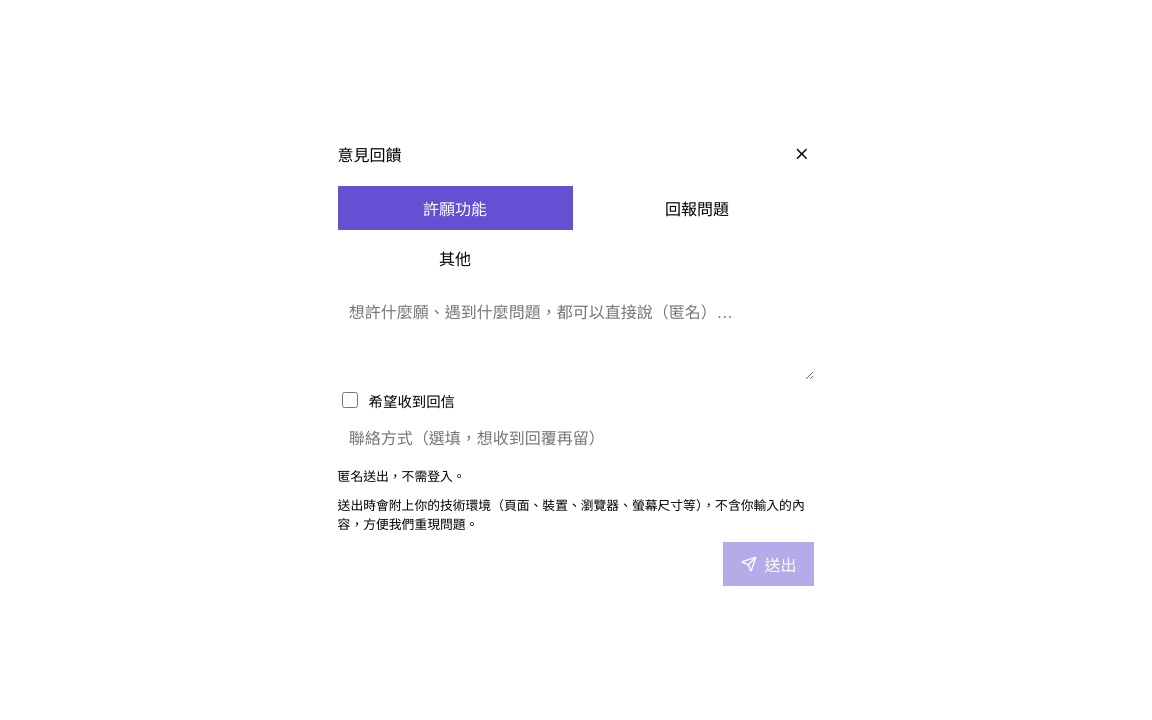
FeedbackForm › submits trimmed input and shows a thank-you
Step 1. Type "  想要夜間模式  " into the text box with placeholder "想許什麼願、遇到什麼問題，都可以直接說（匿名）…" → (576, 335), box [338,290,814,380]
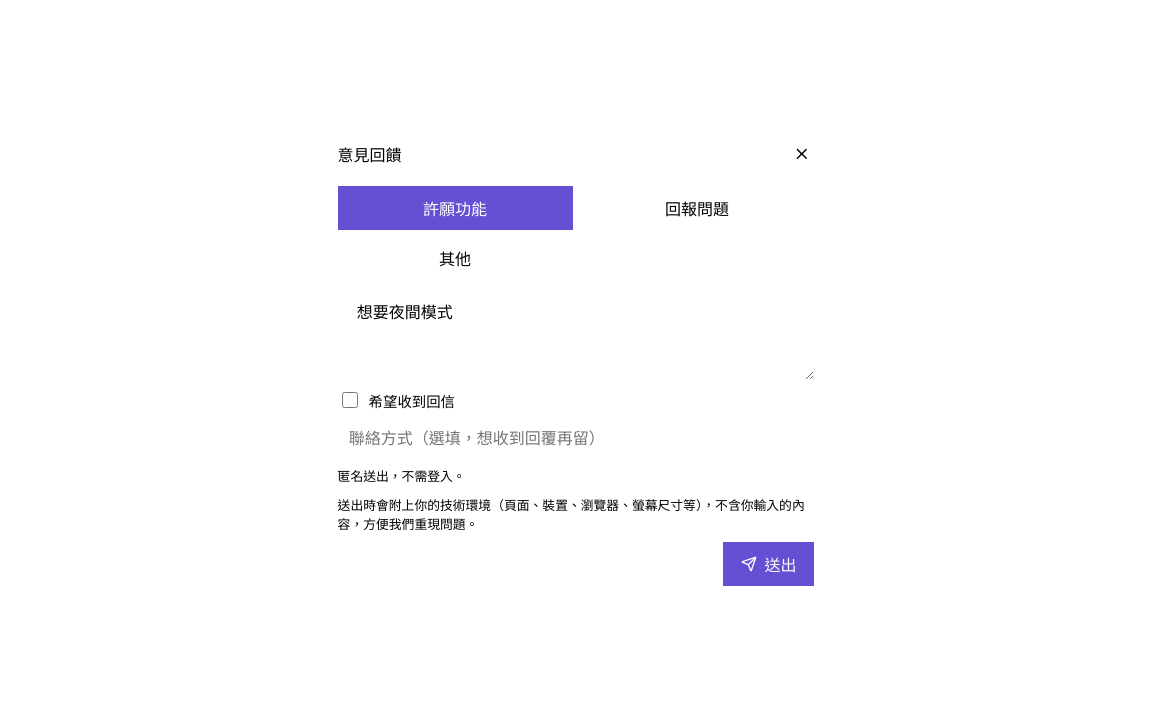
Step 2. Click the button "送出" → click(769, 564), box [723,542,814,586]
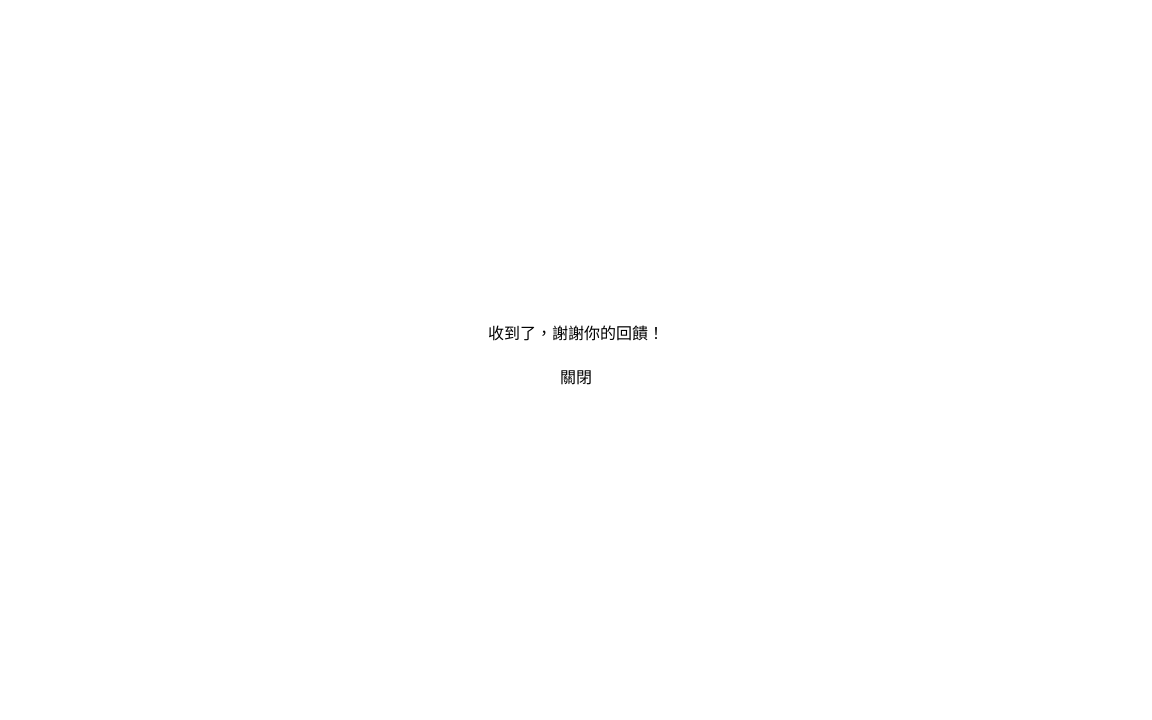
Now the text "收到了，謝謝你的回饋！" is shown, box [488,320,664,344]
